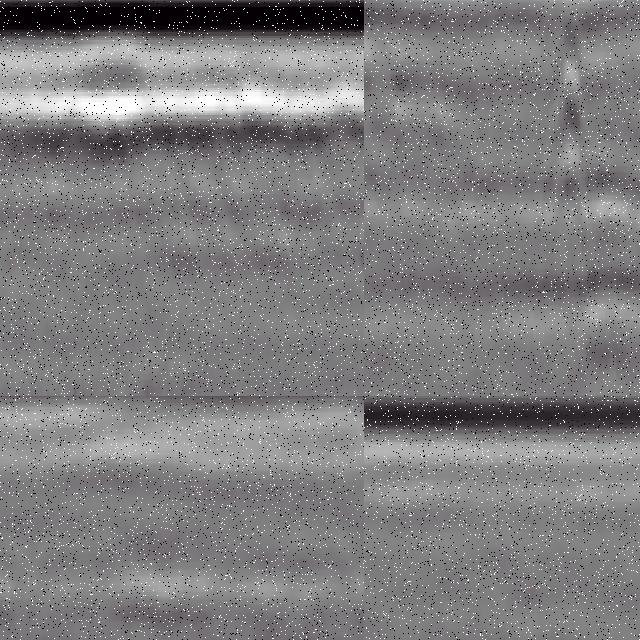crack: (541, 11, 583, 261)
